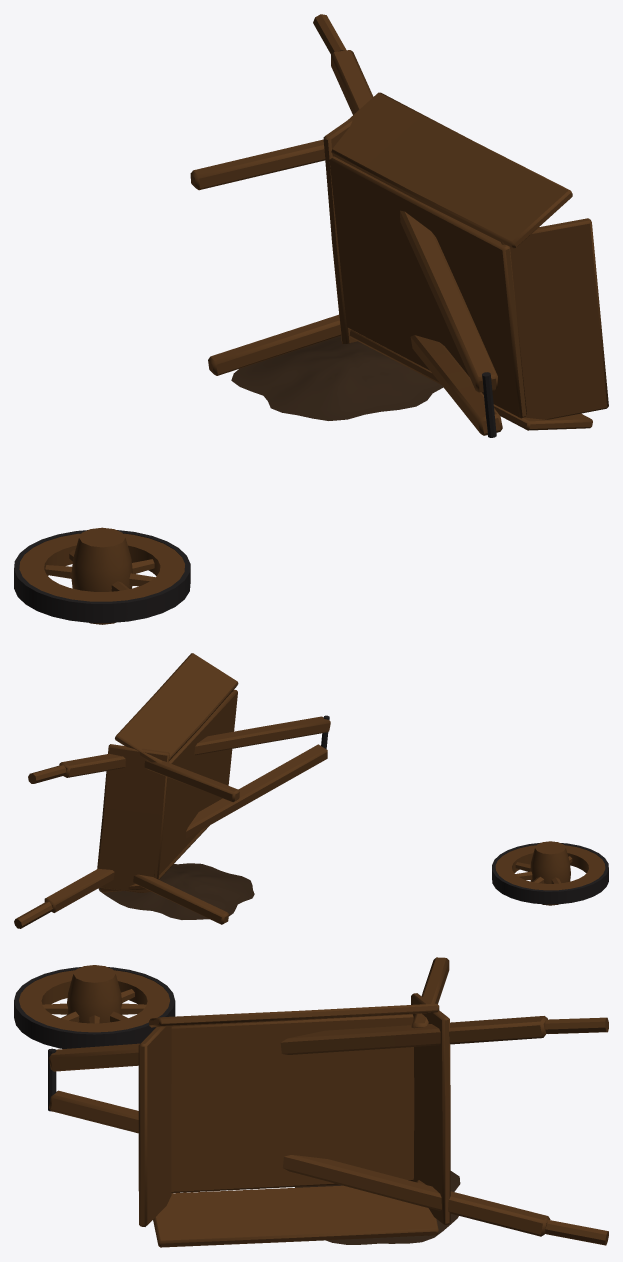
File: schubkarre_kaputt.glb
3 views of the same model, one above another, from view 1: azimuth 30°, elevation 25°; view 2: azimuth 150°, elevation 25°; view 3: azimuth 270°, elevation 25° (orthographic). The views are drawn at different scales.
Visible parts, largest first — view 1: schubkarre_kaputt; view 2: schubkarre_kaputt; view 3: schubkarre_kaputt.
Boxes of the visible parts, x1,y1,x2,y2 form: schubkarre_kaputt: [14, 14, 608, 624]; schubkarre_kaputt: [14, 653, 608, 928]; schubkarre_kaputt: [14, 957, 608, 1247].
Bounding box in the file's own units: 1.81 × 0.7818 × 1.68.
